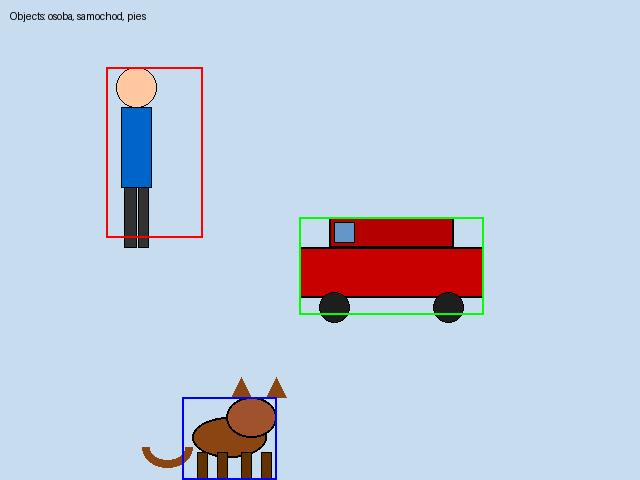osoba: (106, 67, 202, 237)
pies: (182, 397, 276, 479)
samochod: (299, 217, 483, 314)
